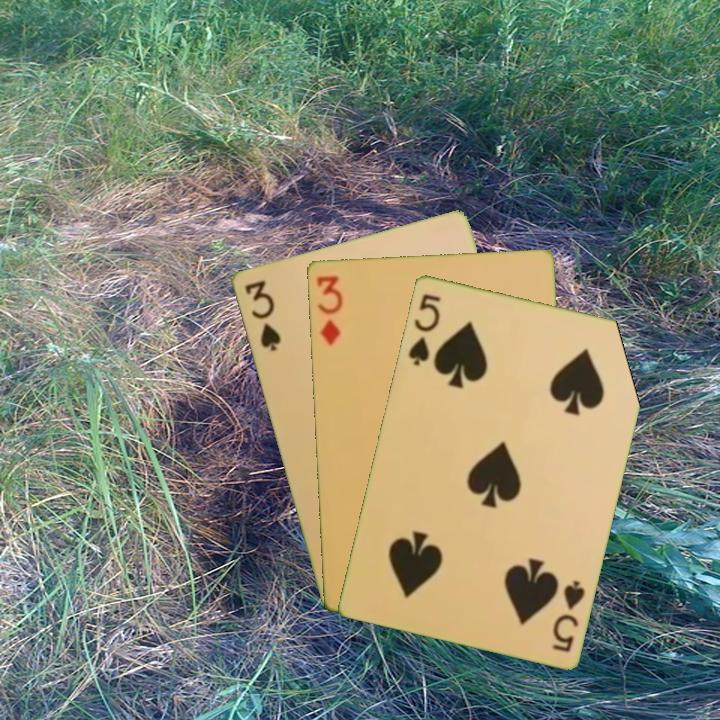3d: (313, 272, 345, 348)
3s: (240, 276, 283, 354)
5s: (549, 576, 588, 655), (404, 290, 443, 368)
